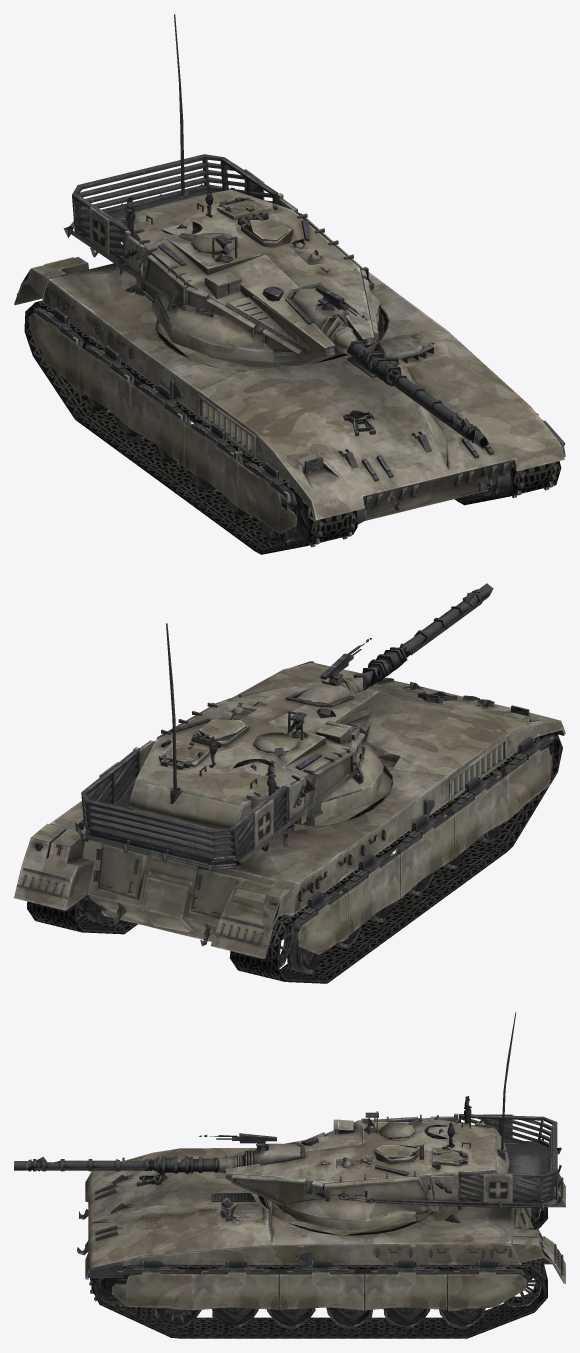
File: m_merkava.glb
3 renders of one model, top to bottom at view 1: azimuth 30°, elevation 25°; view 2: azimuth 150°, elevation 25°; view 3: azimuth 270°, elevation 25°, orthographic. The views are drawn at different scales.
Size of the model in its own units: 2.4 by 3 by 5.37.
2 materials, 2 textured.
